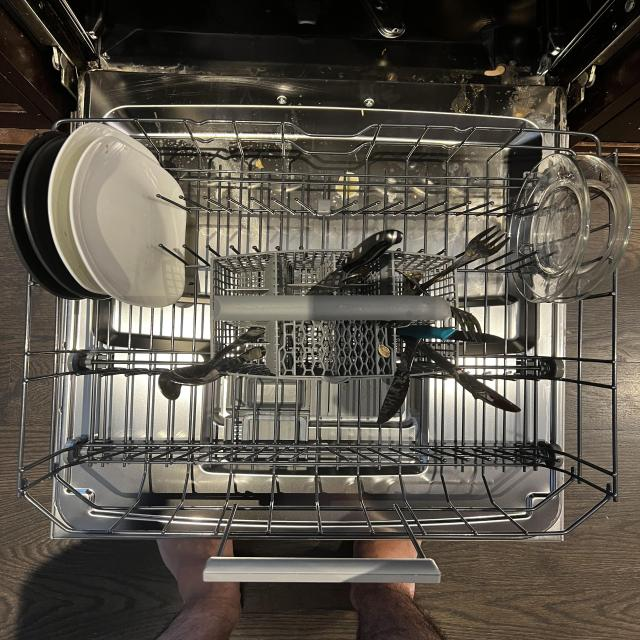Fork: (407, 223, 512, 295), (394, 265, 486, 343)
Knife: (401, 330, 524, 414), (299, 229, 404, 295), (376, 335, 421, 428), (400, 322, 509, 344)
Plate: (69, 132, 194, 312), (502, 152, 592, 305)
Spoon: (157, 344, 265, 402), (169, 327, 264, 389)
